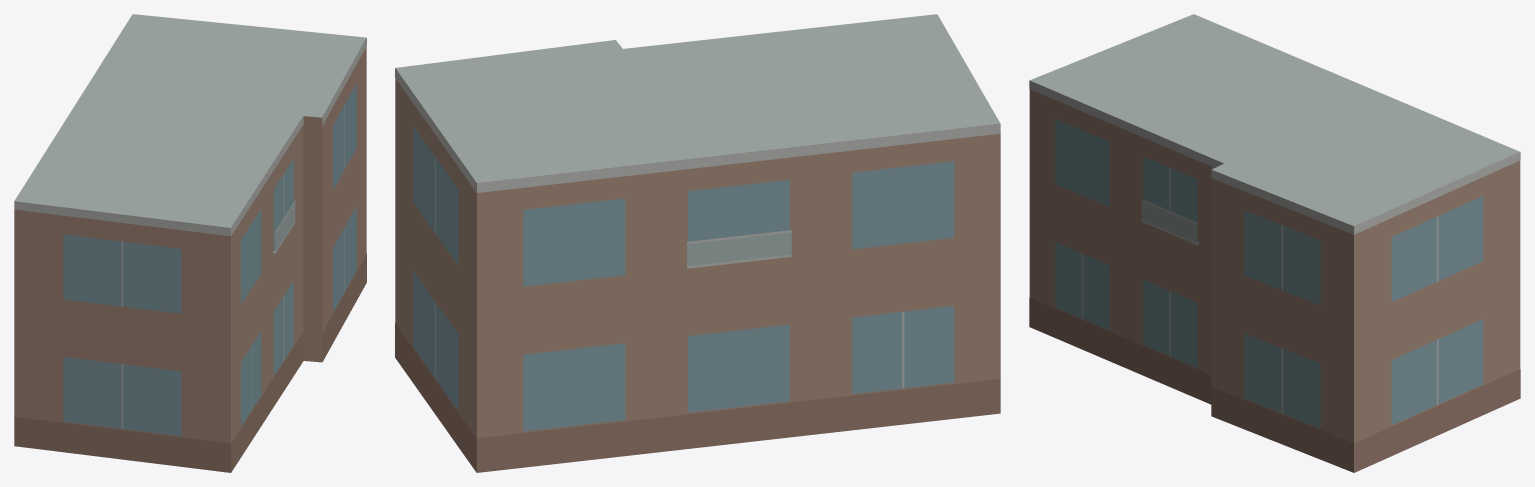
The model's file is survey-upis-32889012.glb.
3 views of the same model, side by side, from view 1: azimuth 30°, elevation 25°; view 2: azimuth 150°, elevation 25°; view 3: azimuth 270°, elevation 25° (orthographic). The views are drawn at different scales.
Parts seen in each view (by area): view 1: survey-upis-32889012.tmp; view 2: survey-upis-32889012.tmp; view 3: survey-upis-32889012.tmp.
Boxes of the visible parts, box(x1,y1,x2,y2) form: survey-upis-32889012.tmp: box(14, 14, 366, 472); survey-upis-32889012.tmp: box(395, 14, 1000, 472); survey-upis-32889012.tmp: box(1029, 14, 1520, 472).
Size of the model in its own units: 13.12 by 7.1 by 12.82.
